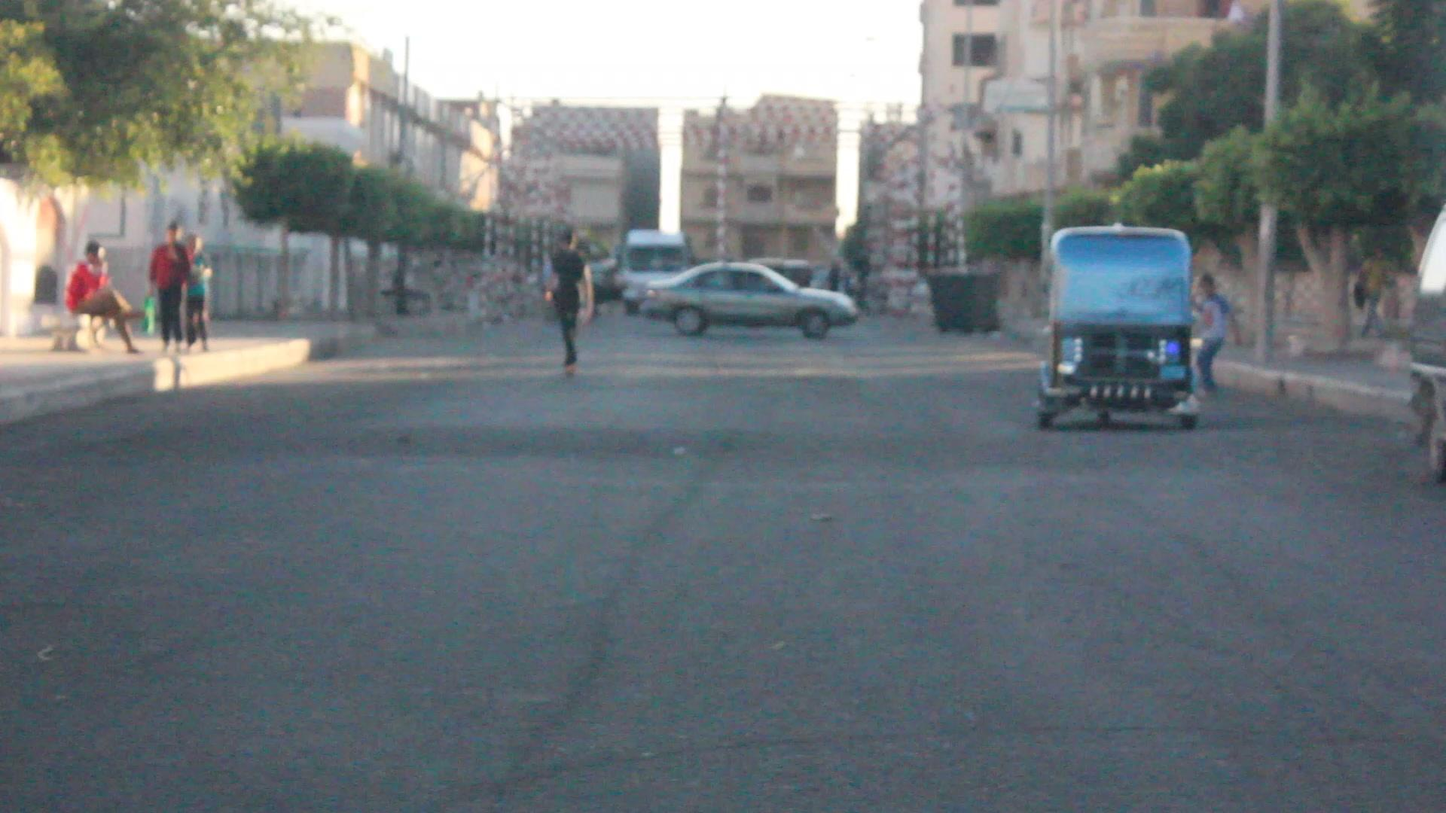Bump: (64, 406, 1431, 489)
